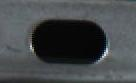holes: (28, 18, 108, 64)
